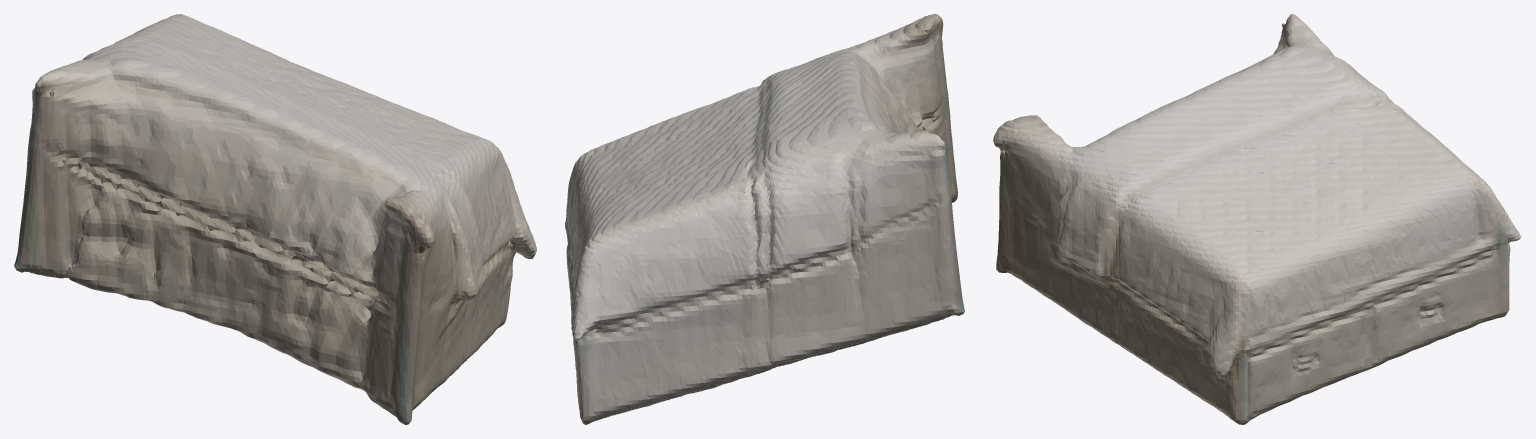
Rendered from stellar-queen-bed-with-hydraulic-storage-in-high-gloss-white.glb.
The picture shows the model from 3 angles, left to right: view 1: azimuth 30°, elevation 25°; view 2: azimuth 150°, elevation 25°; view 3: azimuth 270°, elevation 25°; orthographic projection. The views are drawn at different scales.
Parts seen in each view (by area): view 1: orient; view 2: orient; view 3: orient.
Part boxes in pixels (left/top/right/bottom): orient: left=14, top=14, right=536, bottom=424; orient: left=565, top=14, right=964, bottom=424; orient: left=993, top=14, right=1521, bottom=424.
Bounding box in the file's own units: 1.66 × 1.1 × 2.08.
